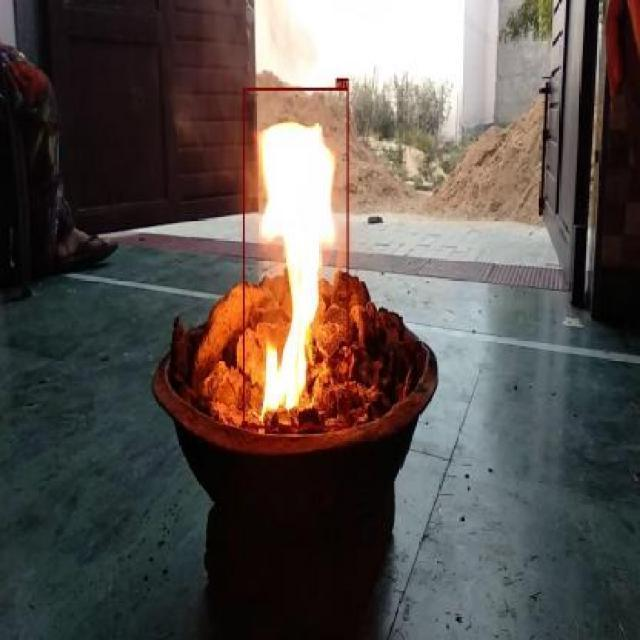Fire: (243, 87, 349, 427)
